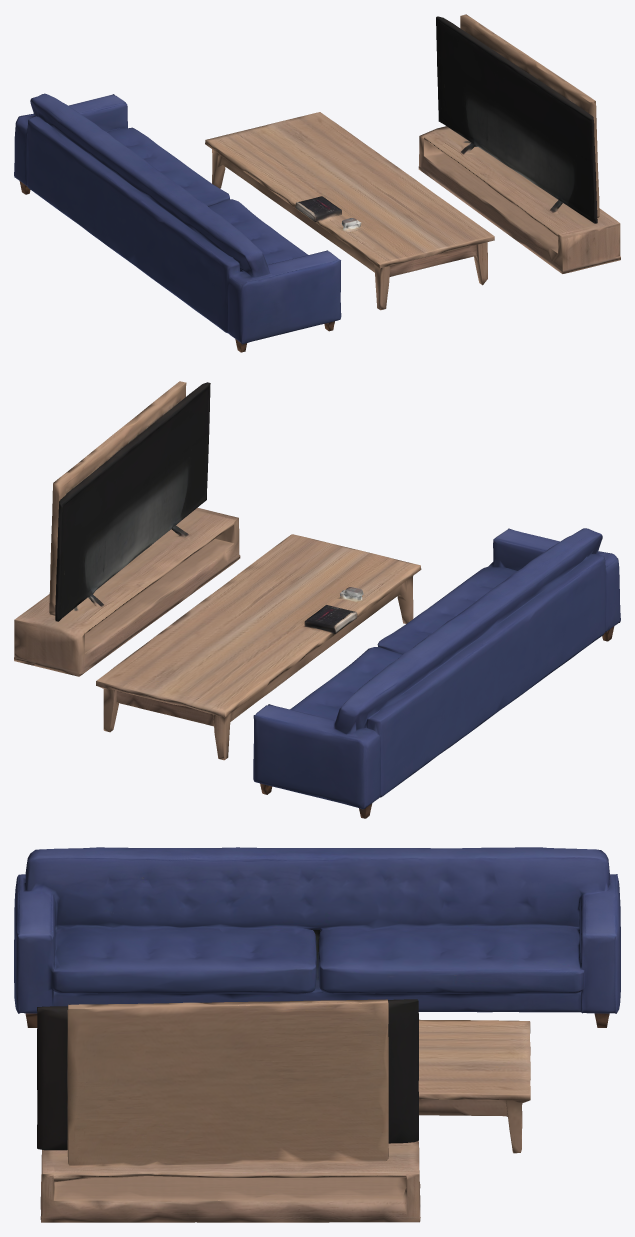
File: cati-oturma.glb
3 views of the same model, one above another, from view 1: azimuth 30°, elevation 25°; view 2: azimuth 150°, elevation 25°; view 3: azimuth 270°, elevation 25° (orthographic). The views are drawn at different scales.
Visible parts, largest first — view 1: tripo_node_06f5f812-48e7-4e3b-8d92-672ff3ab96e0; view 2: tripo_node_06f5f812-48e7-4e3b-8d92-672ff3ab96e0; view 3: tripo_node_06f5f812-48e7-4e3b-8d92-672ff3ab96e0.
Part boxes in pixels (left/top/right/bottom): tripo_node_06f5f812-48e7-4e3b-8d92-672ff3ab96e0: left=14, top=14, right=620, bottom=352; tripo_node_06f5f812-48e7-4e3b-8d92-672ff3ab96e0: left=14, top=381, right=620, bottom=818; tripo_node_06f5f812-48e7-4e3b-8d92-672ff3ab96e0: left=14, top=847, right=620, bottom=1222.
Size of the model in its own units: 0.9778 by 0.3857 by 1.
1 material, 1 textured.
